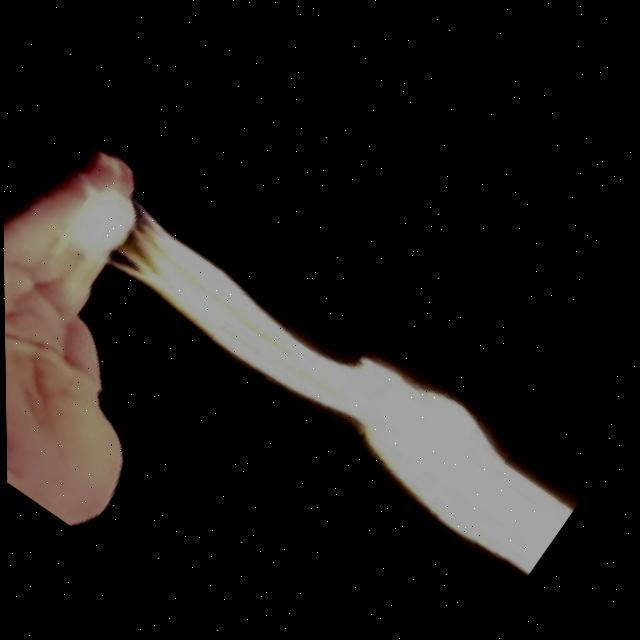Fire: (47, 149, 592, 601)
